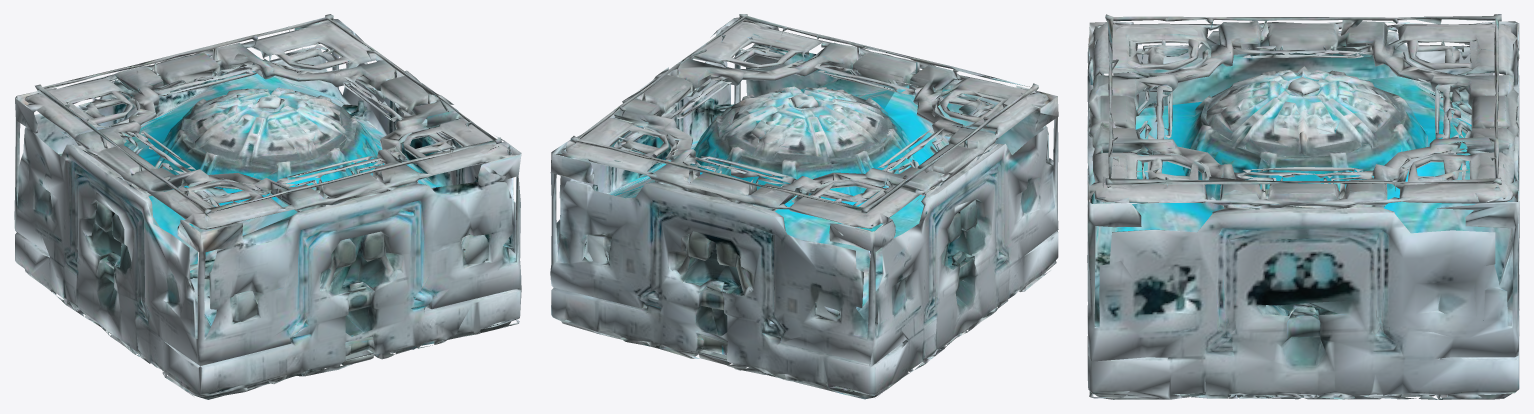
Rendered from station_reactor.repacked.glb.
3 renders of one model, left to right at view 1: azimuth 30°, elevation 25°; view 2: azimuth 150°, elevation 25°; view 3: azimuth 270°, elevation 25°, orthographic. The views are drawn at different scales.
Visible parts, largest first — view 1: Mesh1.0; view 2: Mesh1.0; view 3: Mesh1.0.
Part boxes in pixels (x1,y1,x2,y2): Mesh1.0: (14, 14, 521, 399); Mesh1.0: (550, 14, 1058, 399); Mesh1.0: (1087, 14, 1519, 399).
Size of the model in its own units: 1.91 by 1.12 by 1.91.
1 material, 1 textured.
